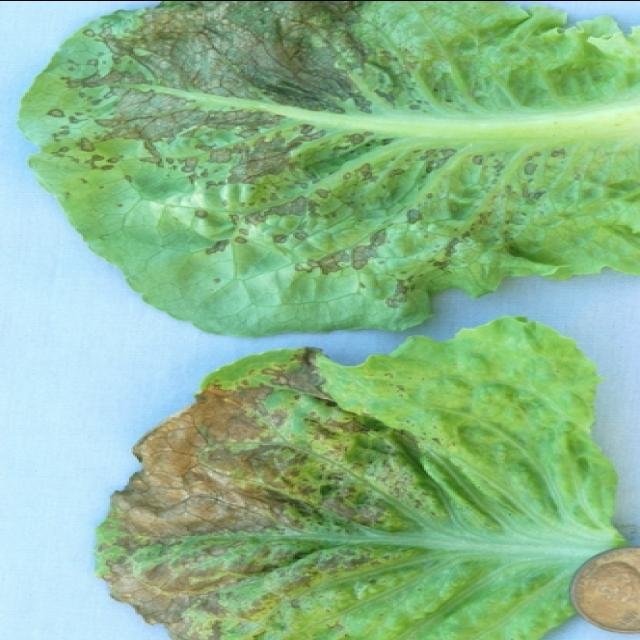Lettuce: (27, 0, 640, 338), (92, 316, 627, 640)
